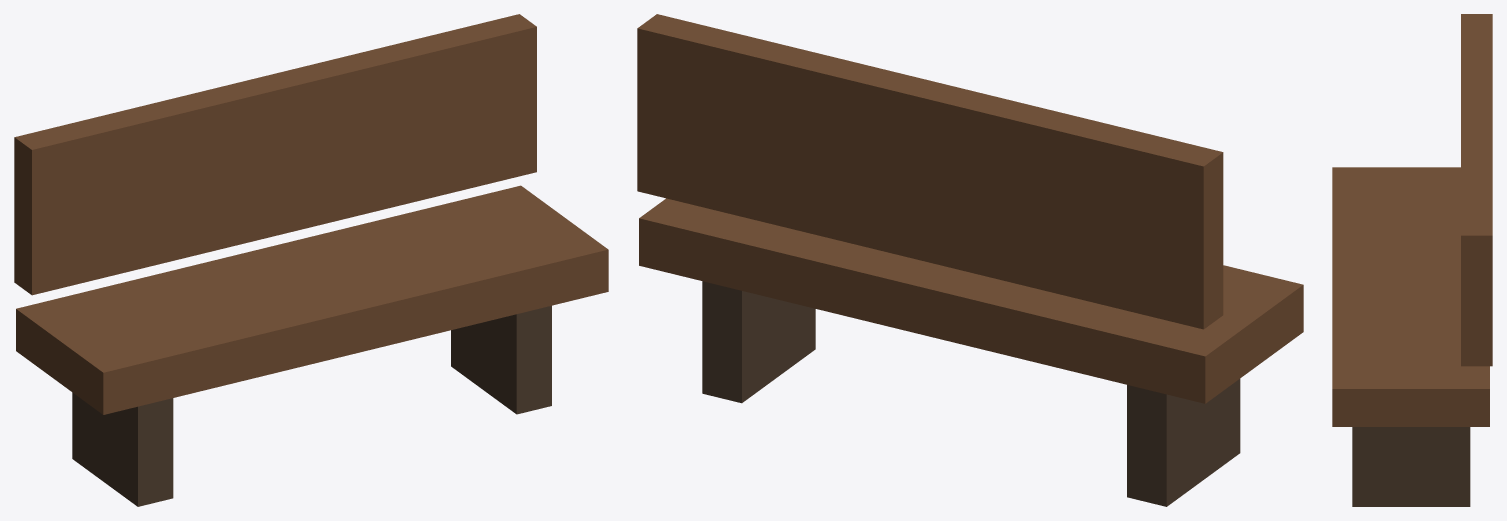
Rendered from bench.glb.
The picture shows the model from 3 angles, left to right: view 1: azimuth 30°, elevation 25°; view 2: azimuth 150°, elevation 25°; view 3: azimuth 270°, elevation 25°; orthographic projection. The views are drawn at different scales.
Parts seen in each view (by area): view 1: bench-surface; view 2: bench-surface; view 3: bench-surface.
Part boxes in pixels (x1=…): bench-surface: x1=14, y1=14, x2=608, y2=506; bench-surface: x1=637, y1=14, x2=1303, y2=506; bench-surface: x1=1332, y1=14, x2=1492, y2=506.
Bounding box in the file's own units: 2 × 1.23 × 0.61.
